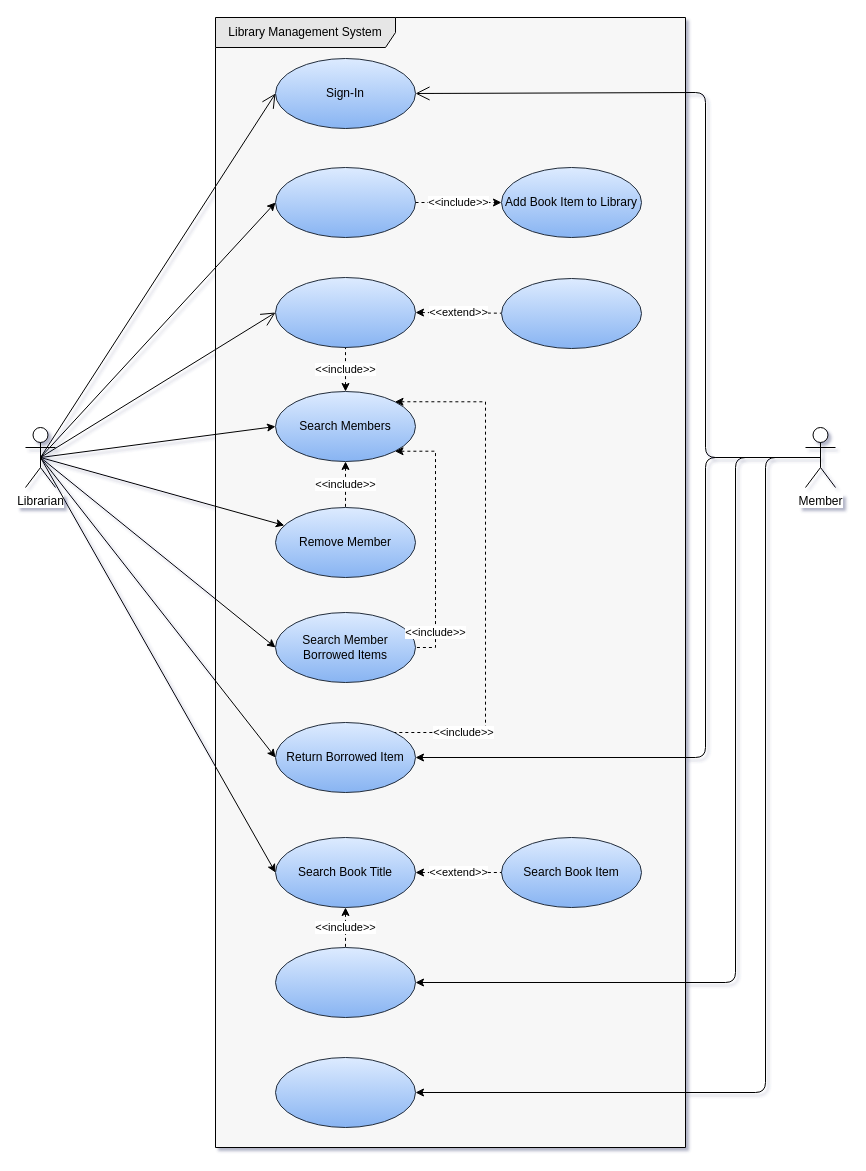
This 866x1171 diagram has some shape labels left out. Each missing label, with the centre of its shape:
Add Book Title to Library: the point at 345,202
Cancel Membership: the point at 345,1092
Lend Book Item: the point at 345,982
Register member: the point at 345,312
Suspend Registration: the point at 571,313
